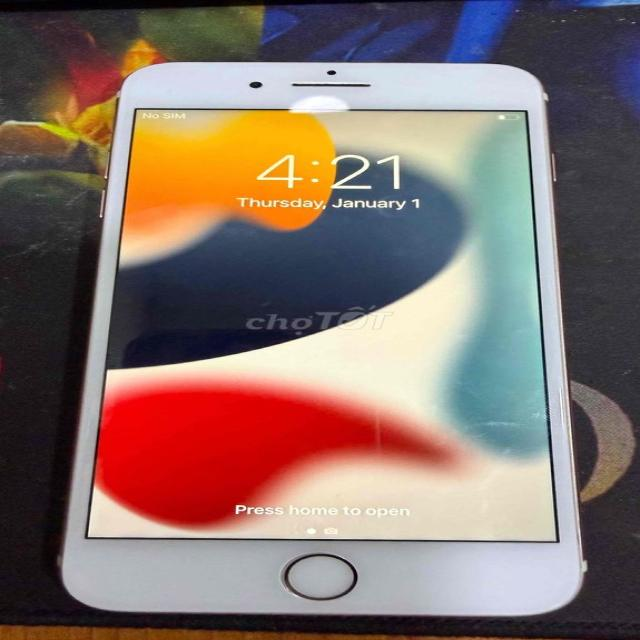gen_7_8: (60, 54, 598, 622)
scratch: (444, 408, 555, 548), (360, 393, 382, 453)
screen_defect: (286, 90, 356, 118)
